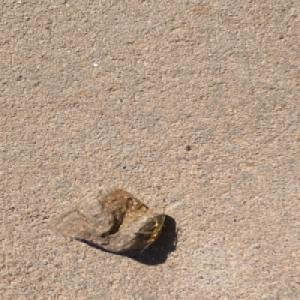Rock: (42, 184, 167, 255)
